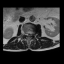CCS_normal: (28, 32, 29, 38)
LFS_stenosis: (31, 32, 32, 36)
LLS_normal: (29, 32, 31, 37)
RFS_normal: (25, 31, 27, 36)
RLS_normal: (26, 32, 28, 37)
